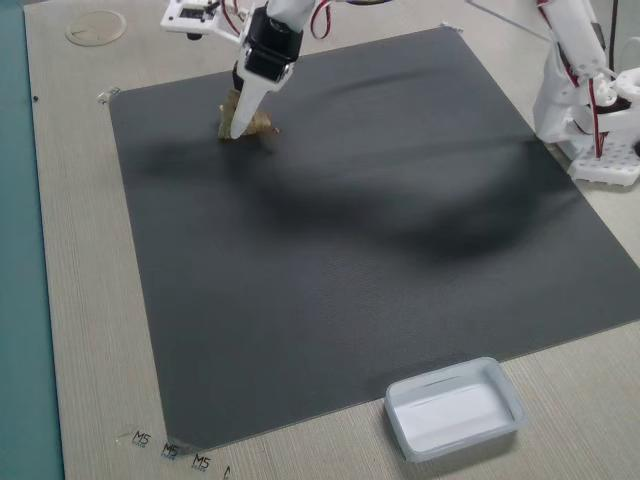objects: (193, 0, 313, 126)
